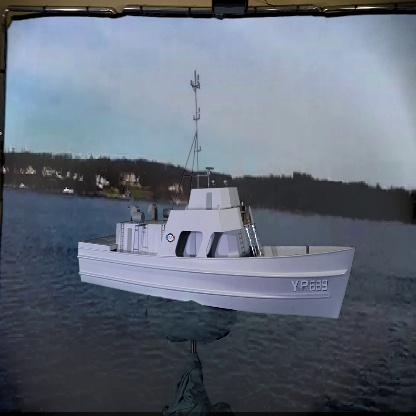YP689: (78, 72, 355, 322)
